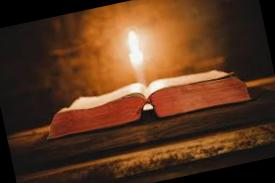Fire: (120, 25, 144, 56)
